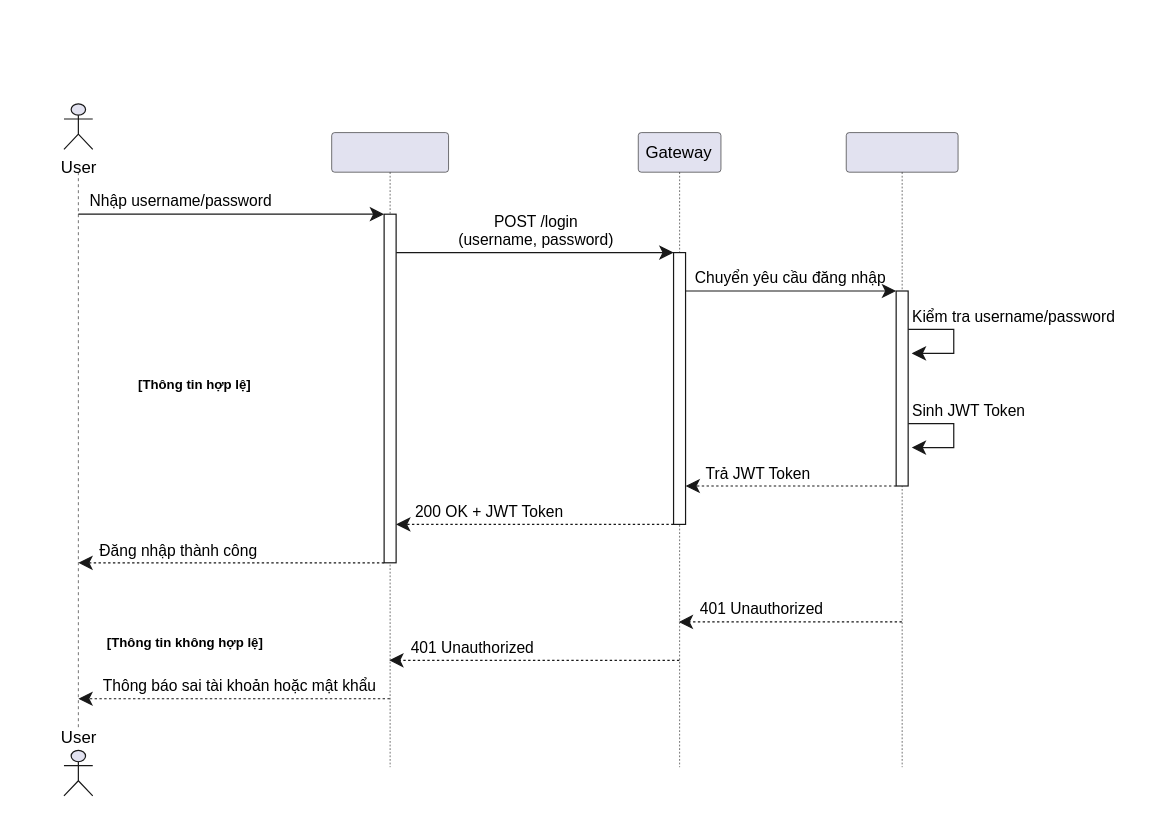
Image size: 1150x817. Some labels were removed from this diagram. Each missing label, with the box of its shape:
Frontend (FE): (331, 132, 448, 767)
User Service: (845, 132, 958, 767)
